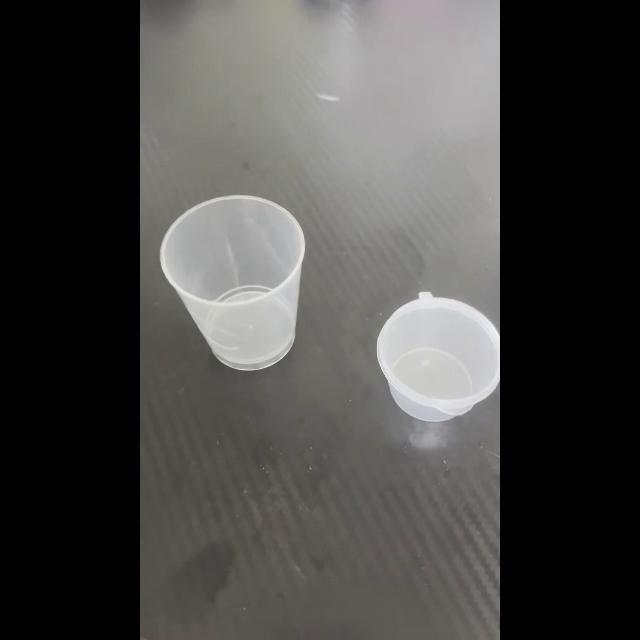clean: (159, 195, 305, 365), (376, 294, 500, 422)
